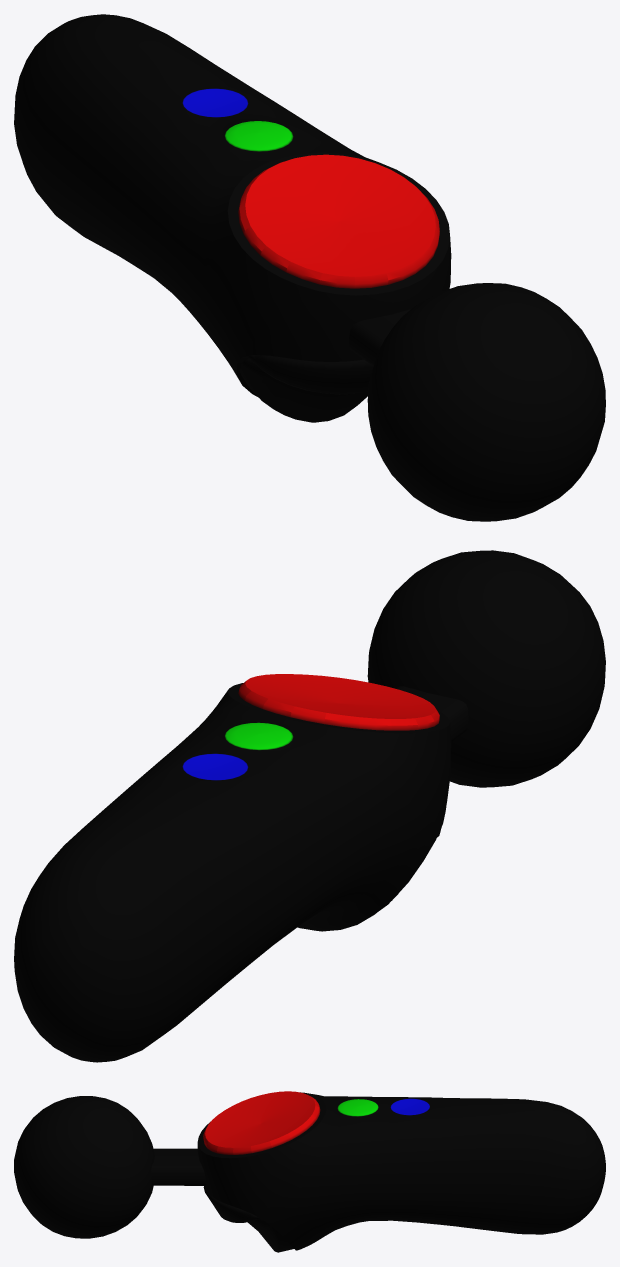
The model's file is dd6dof_controller.fbx.
The picture shows the model from 3 angles, top to bottom: view 1: azimuth 30°, elevation 25°; view 2: azimuth 150°, elevation 25°; view 3: azimuth 270°, elevation 25°; orthographic projection. The views are drawn at different scales.
Parts seen in each view (by area): view 1: dd6dof_controller; view 2: dd6dof_controller; view 3: dd6dof_controller.
Boxes of the visible parts, left/top/right/bottom form: dd6dof_controller: left=14, top=14, right=605, bottom=521; dd6dof_controller: left=14, top=550, right=605, bottom=1062; dd6dof_controller: left=14, top=1091, right=605, bottom=1252.
Size of the model in its own units: 4.06 by 4.53 by 16.65.
